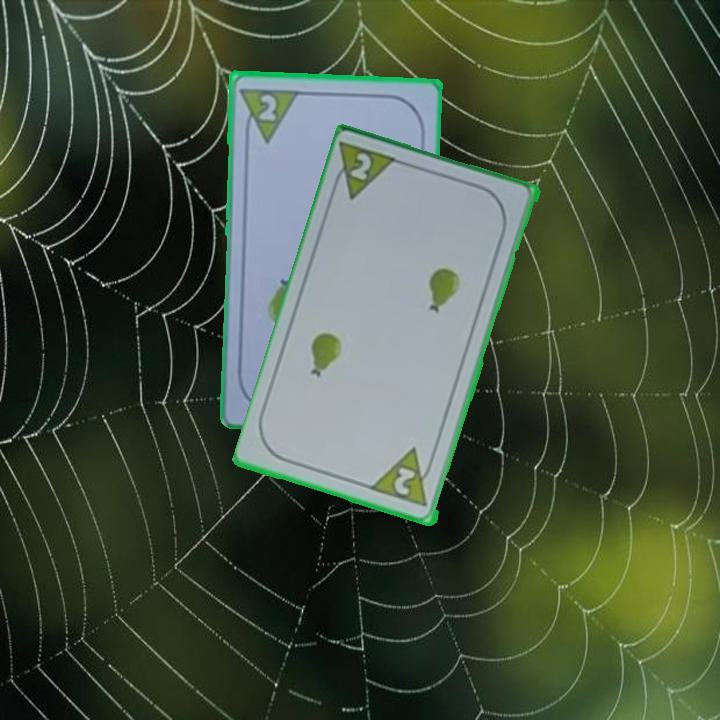2p: (327, 138, 403, 204), (235, 84, 301, 145), (390, 464, 420, 499)
